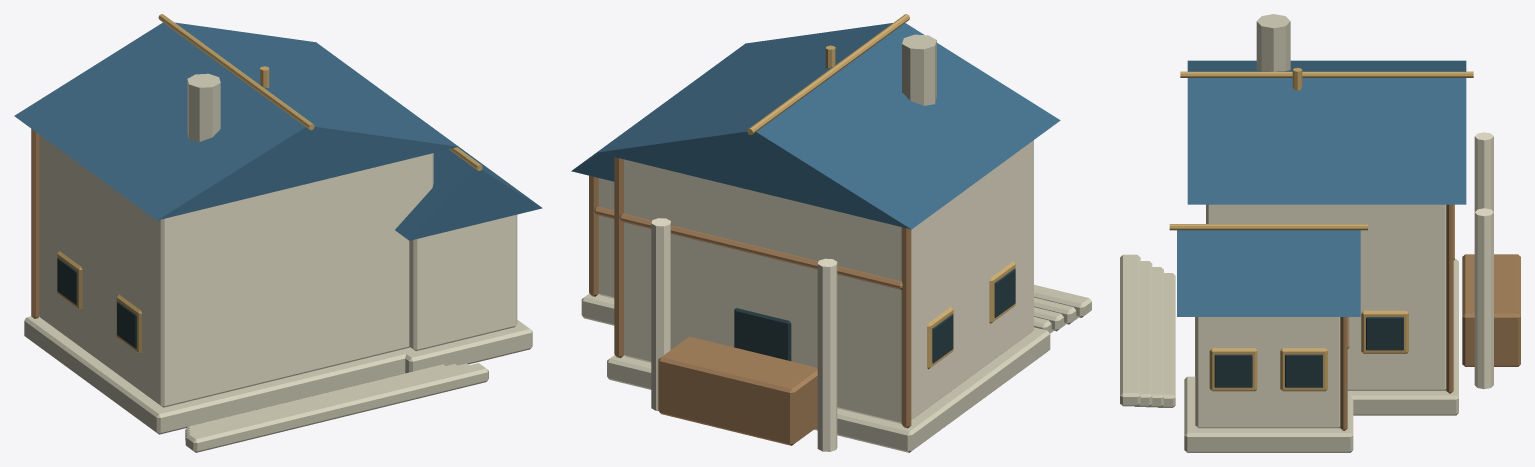
The model's file is level_30.glb.
The picture shows the model from 3 angles, left to right: view 1: azimuth 30°, elevation 25°; view 2: azimuth 150°, elevation 25°; view 3: azimuth 270°, elevation 25°; orthographic projection. The views are drawn at different scales.
Visible parts, largest first — view 1: workshop — level 30; view 2: workshop — level 30; view 3: workshop — level 30.
Part boxes in pixels (x1,y1,x2,y2): workshop — level 30: [14, 14, 542, 452]; workshop — level 30: [571, 14, 1091, 452]; workshop — level 30: [1120, 14, 1520, 452].
Size of the model in its own units: 5.84 by 4.47 by 5.46.
